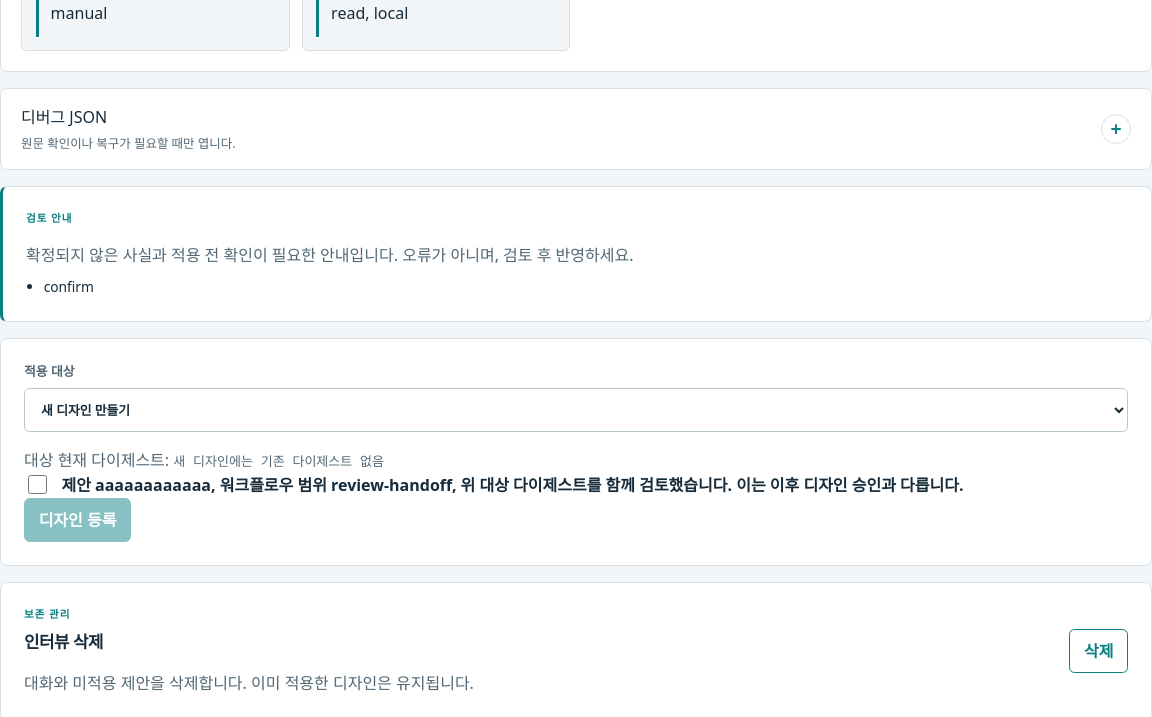
Test: InterviewPageContent lifecycle › submits the reviewed target digest and retains the proposal on stale conflict
This screenshot has width=1152, height=717.
(page scrolled)
Step 1. Select "기존 디자인 · Current Acme design" in the dropdown labelled "적용 대상" → coordinates (576, 410), box [24,388,1128,432]
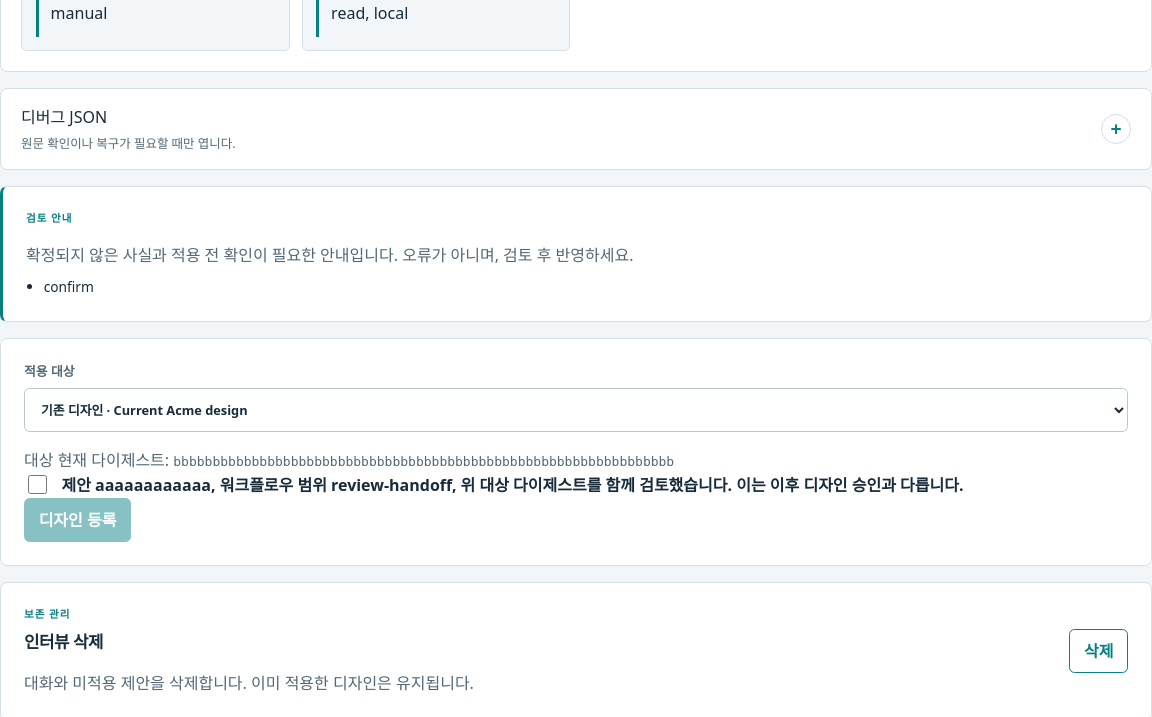
Step 2. Click the checkbox labelled "제안 aaaaaaaaaaaa" → coordinates (38, 485), box [28,475,47,494]
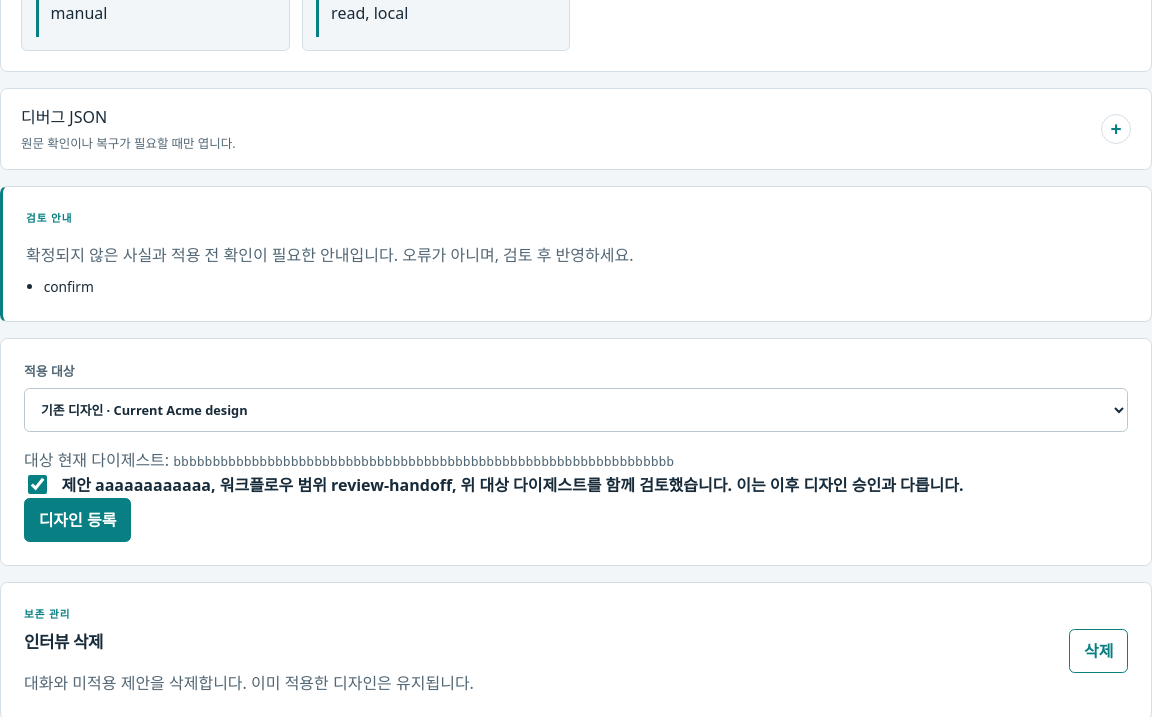
Step 3. Click the button "디자인 등록" → coordinates (78, 520), box [24,498,131,542]
(page scrolled)
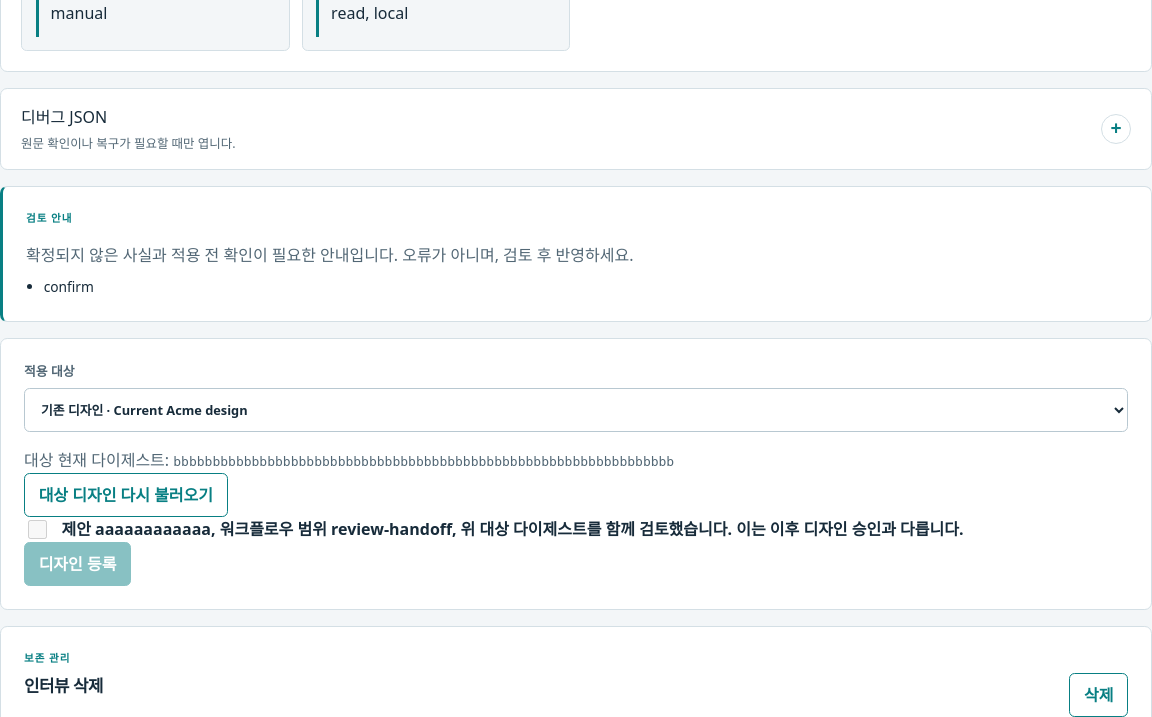
Expected: the checkbox labelled "제안 aaaaaaaaaaaa" is not checked, [28,520,47,539]
Expected: the checkbox labelled "제안 aaaaaaaaaaaa" is disabled, [28,520,47,539]
Expected: the button "대상 디자인 다시 불러오기" is shown
Step 4. Click the button "대상 디자인 다시 불러오기" → coordinates (126, 495), box [24,473,228,517]
(page scrolled)
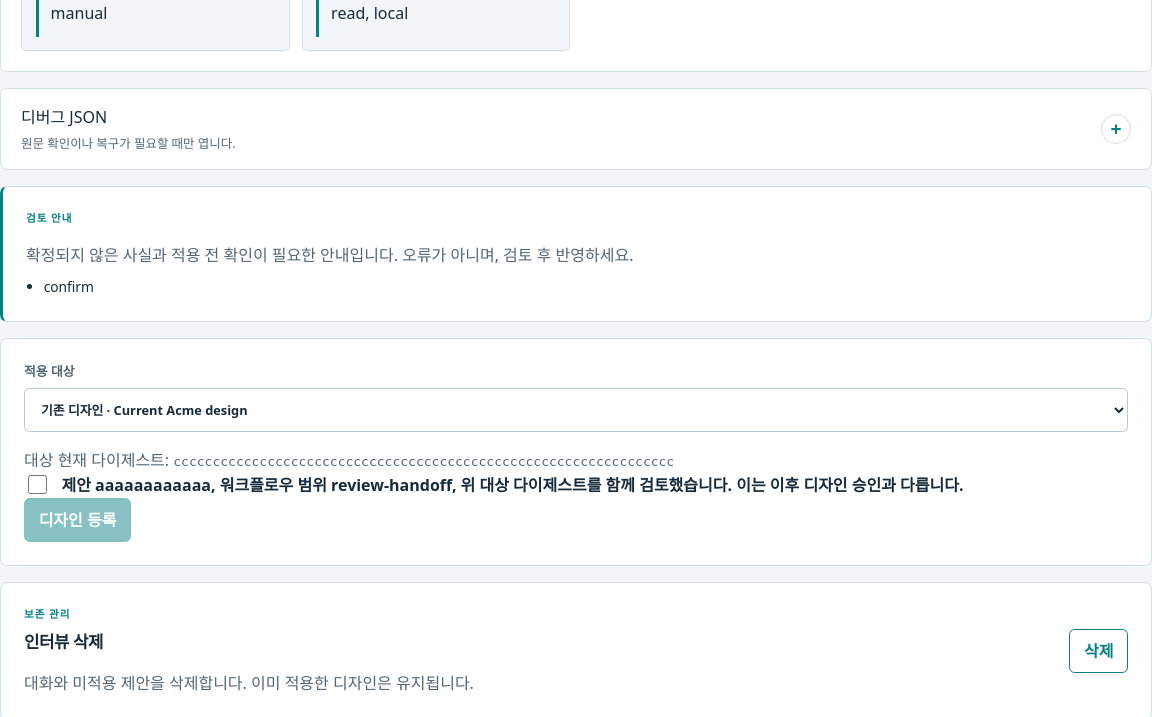
Expected: the checkbox labelled "제안 aaaaaaaaaaaa" is not checked, [28,475,47,494]
Expected: the checkbox labelled "제안 aaaaaaaaaaaa" is enabled, [28,475,47,494]
